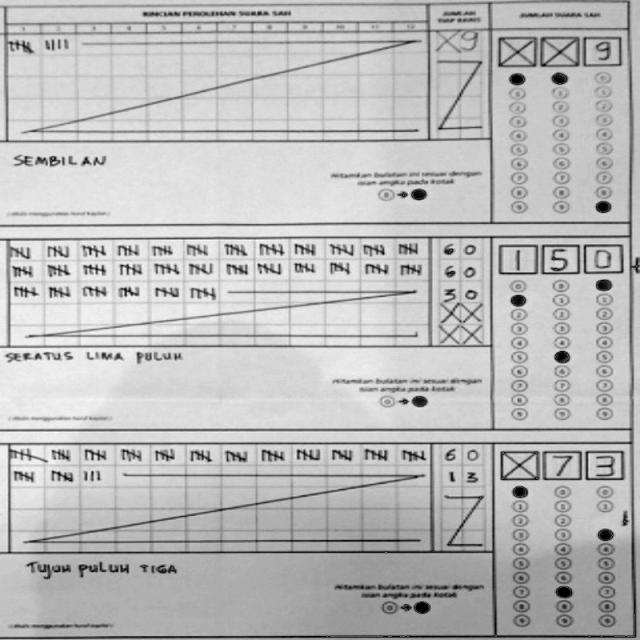Suara: (491, 240, 618, 274), (496, 446, 622, 478), (492, 38, 626, 68)
